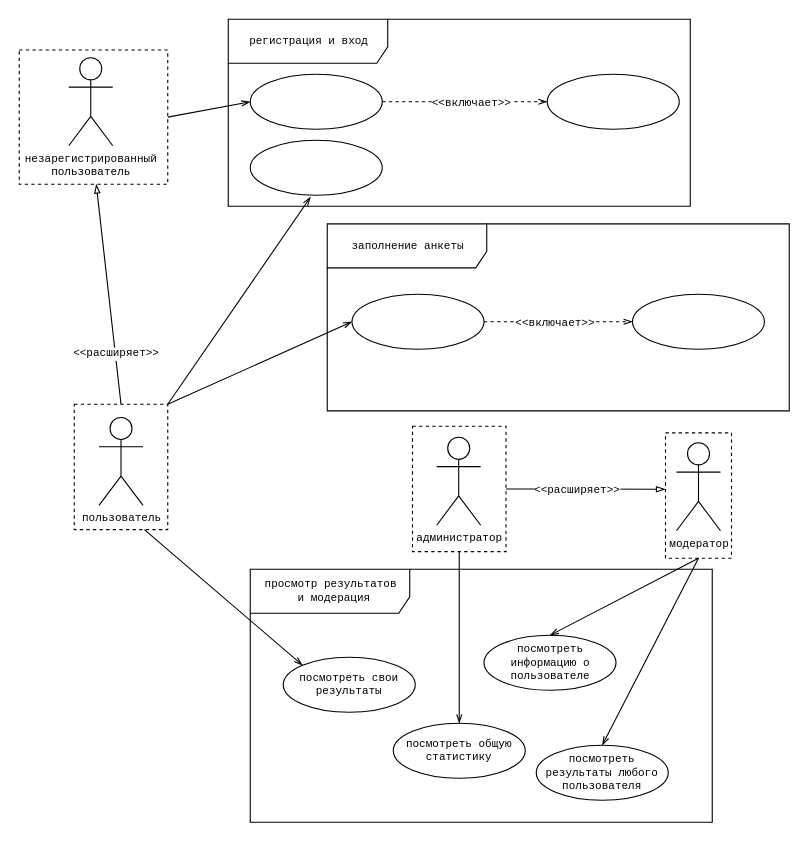
Some shapes in this 809 by 842 pixel diagram are drawn without their labels. The shapes that lost their labels are listed below. From the top down, each one's centre as x and y in pixels, then its label:
At (315,101): "зарегистрироваться в системме".
At (612,101): "заполнить анкету с личной информацией".
At (315,167): "войти в систему".
At (417,321): "пройти тестирование".
At (698,321): "проставить оценку слову".
